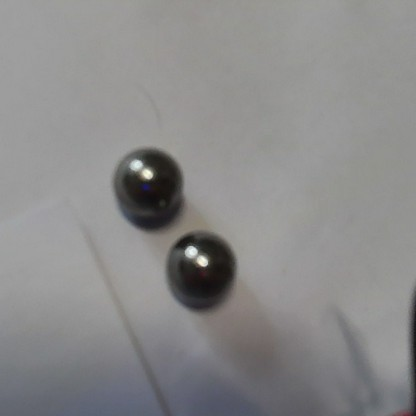ironball: (163, 229, 240, 314), (113, 146, 186, 226)
